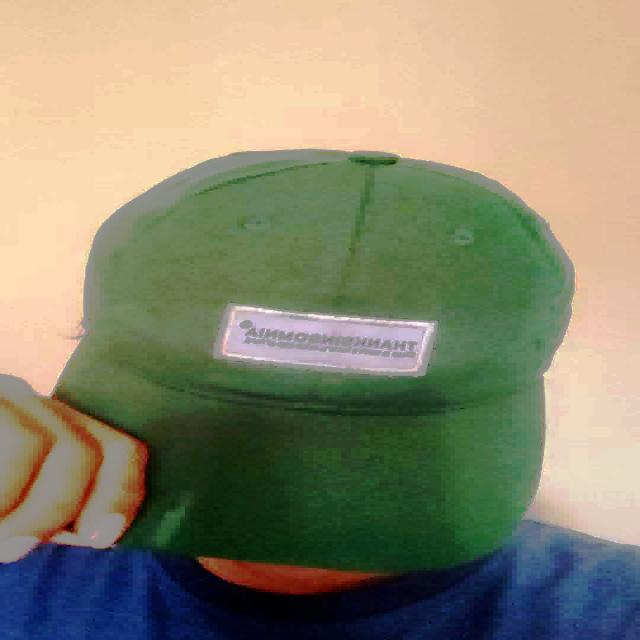TOPI: (55, 145, 578, 576)
